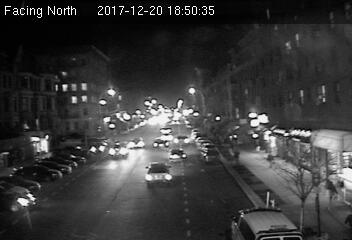car: (144, 162, 173, 183), (108, 141, 128, 158), (167, 148, 187, 161), (151, 137, 171, 149), (174, 135, 190, 147), (127, 138, 145, 148)
police: (224, 205, 306, 240)
